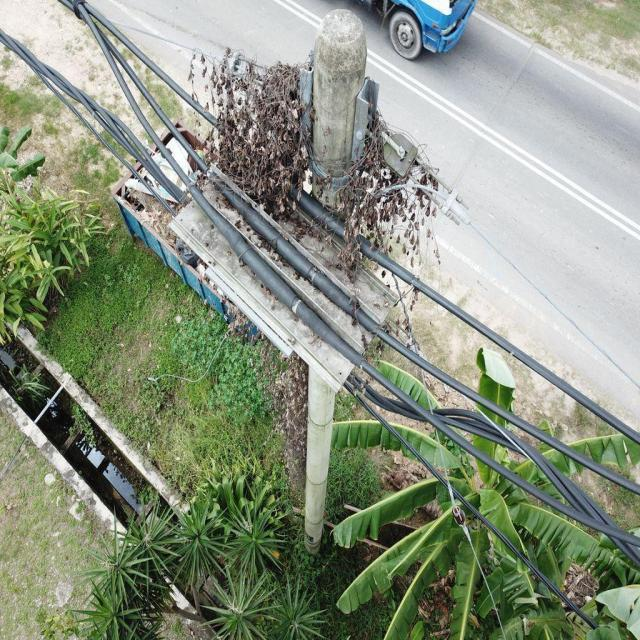critical vegetation: (164, 26, 454, 306)
